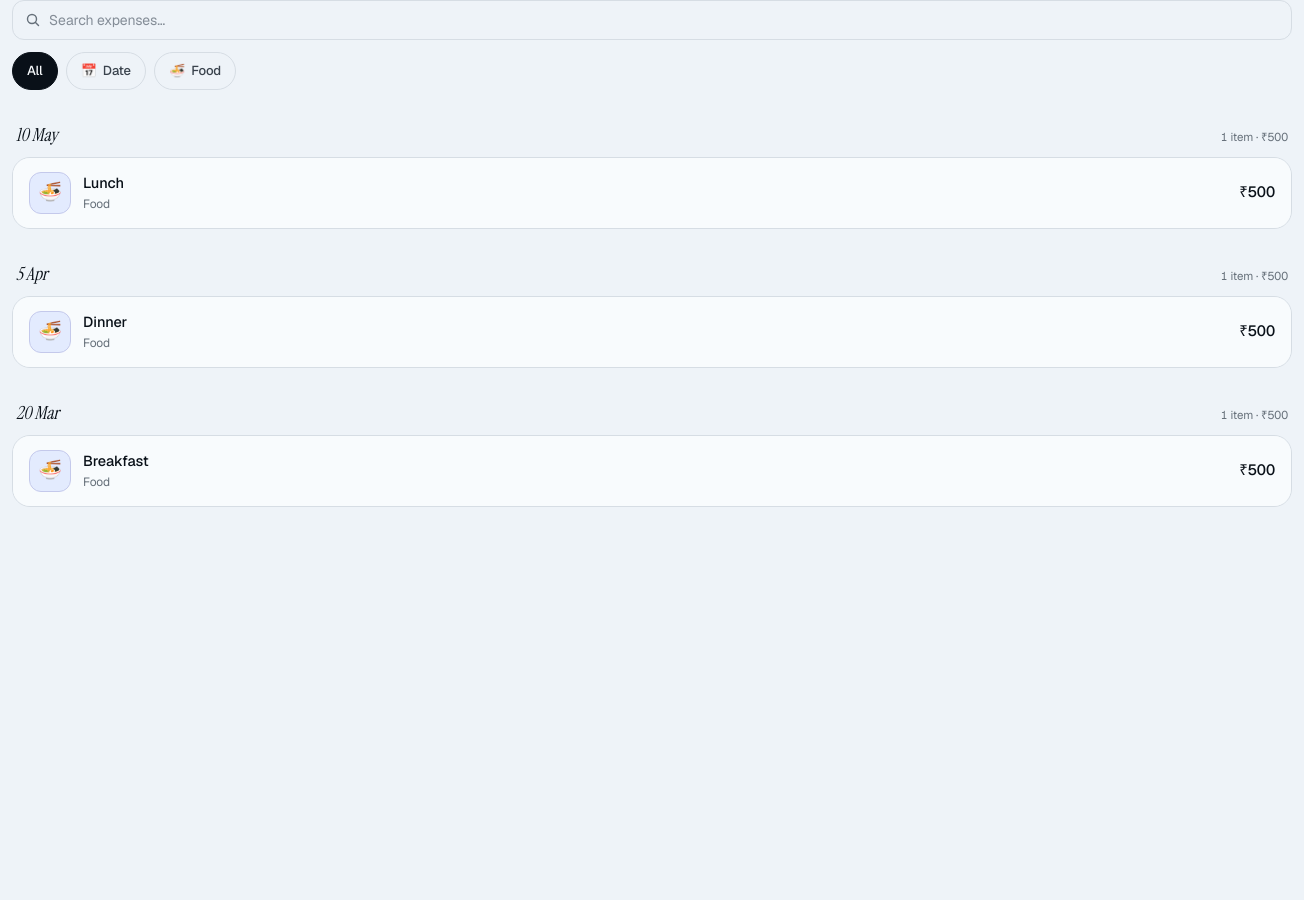
Test case: MobileExpenses — opening the date row › tapping the Date chip reveals two date inputs
Click the button "📅 Date". click: [106, 71]
box: [66,52,146,90]
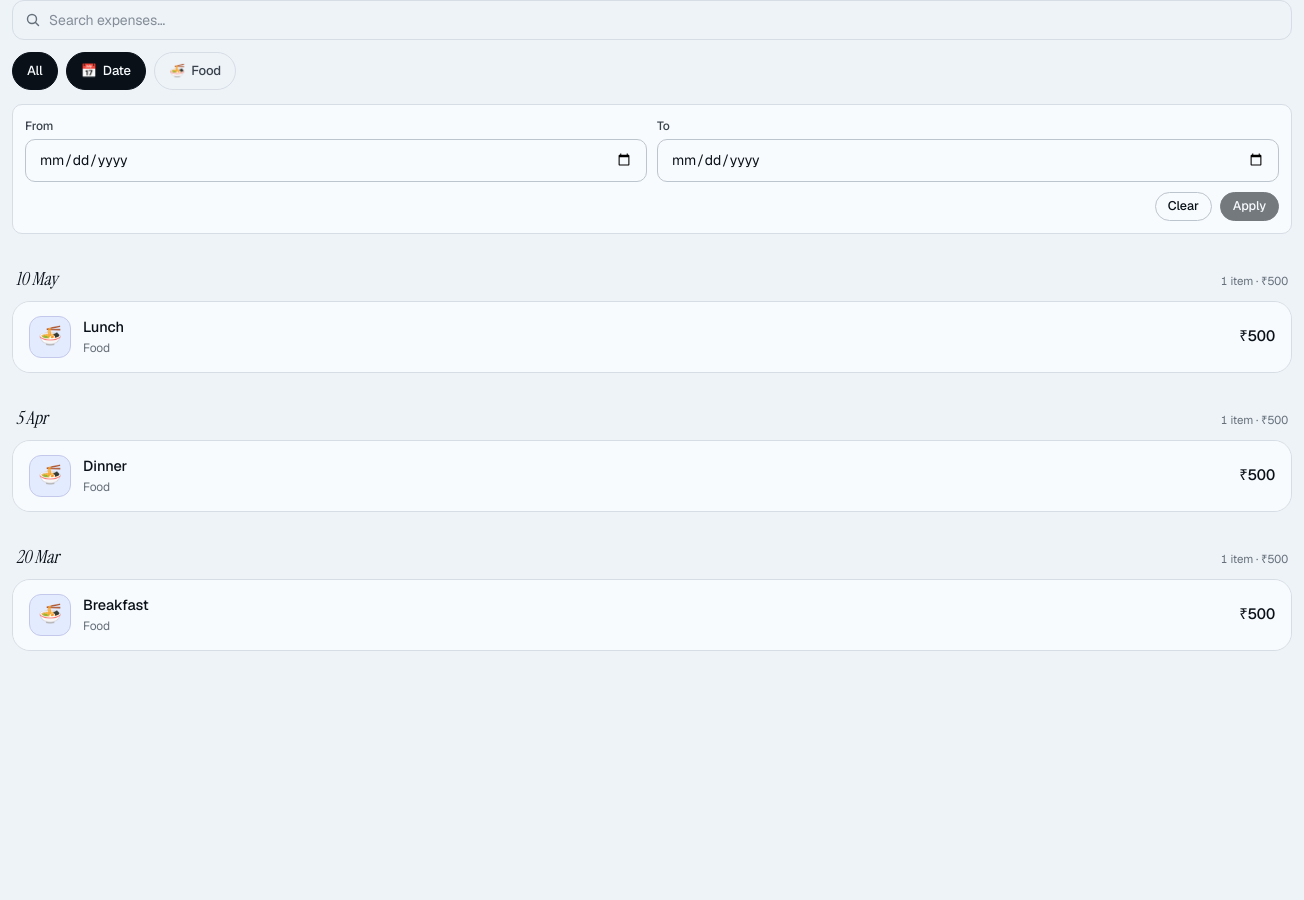
expect the number of date fields is 2: met, box [25,138,647,182]; [657,138,1279,182]
